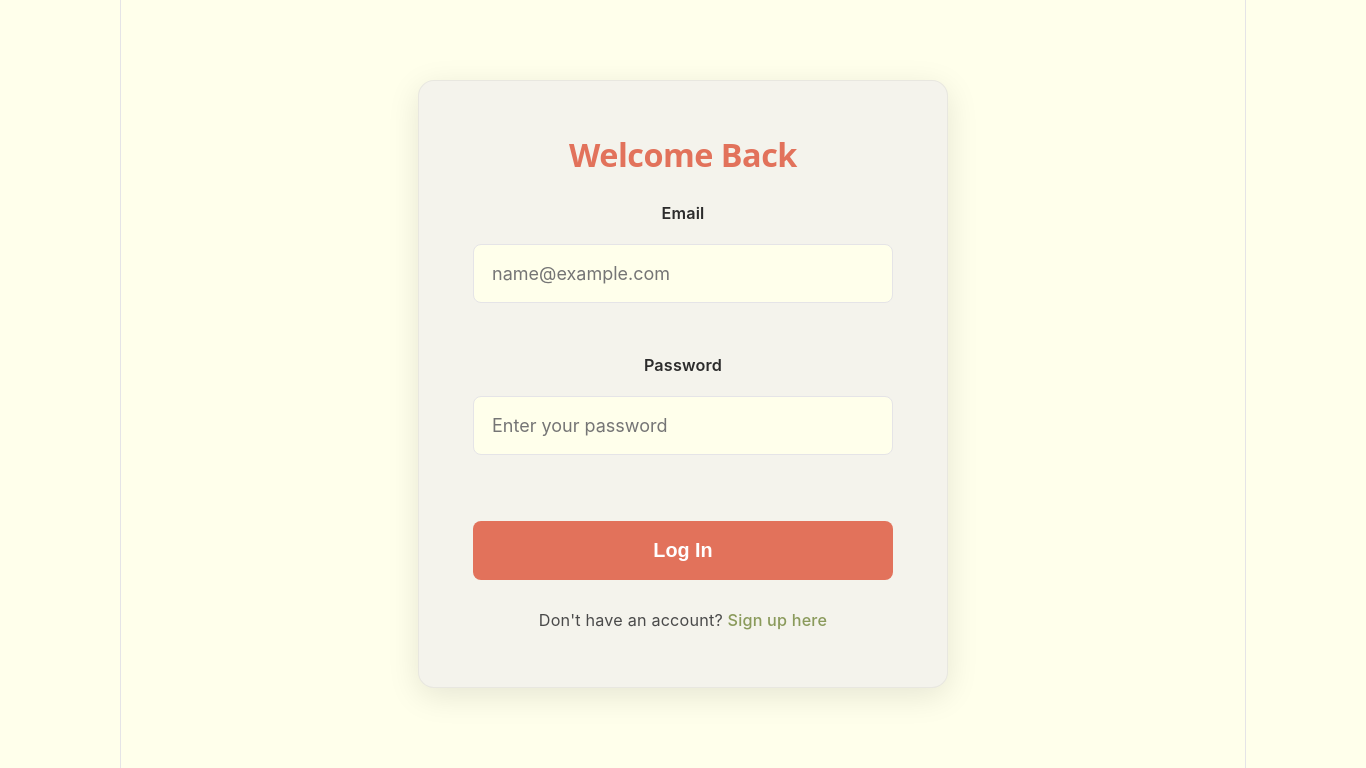
Test: LoginPage › displays validation errors for empty fields
Click the button "Log In": (683,551) [473, 521, 893, 580]
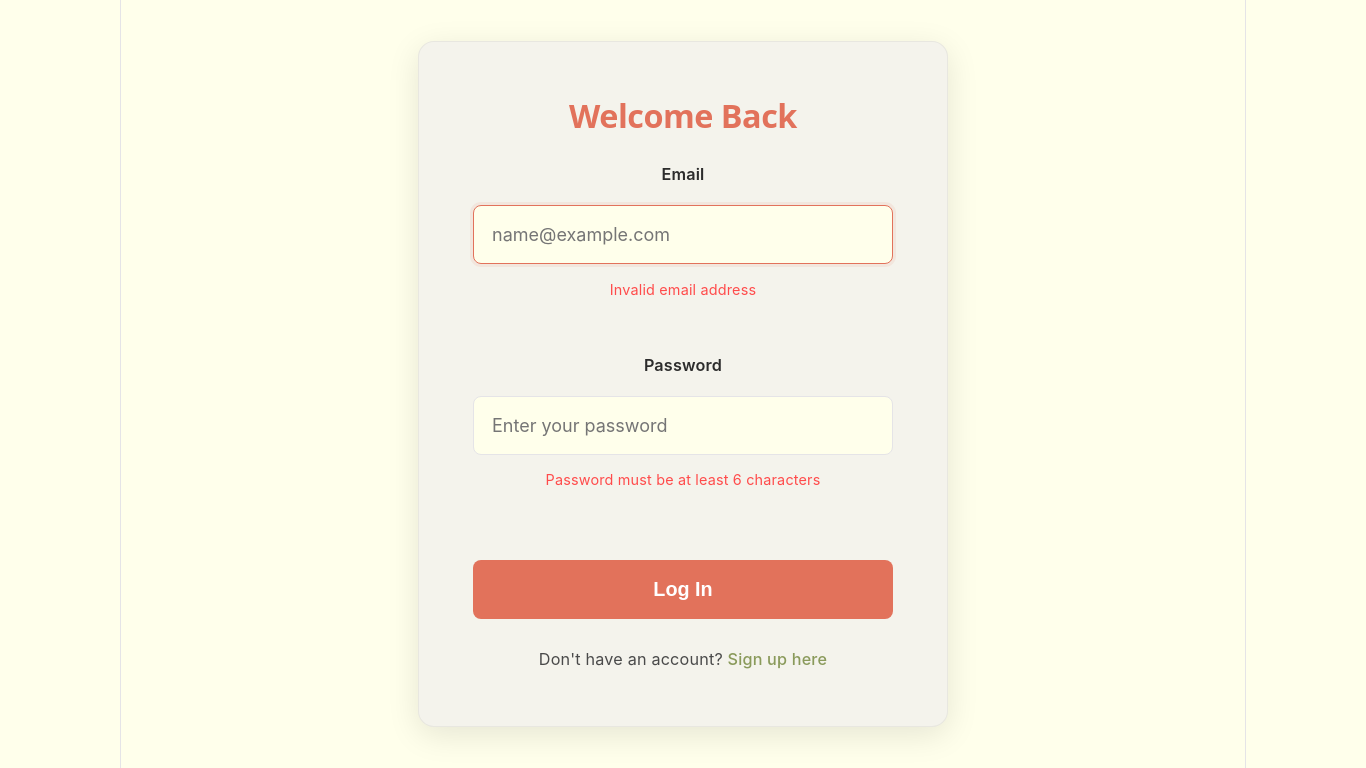
Now the text "Invalid email address" is shown, box [610, 281, 756, 298]
Now the text "Password must be at least 6 characters" is shown, box [546, 471, 820, 488]
